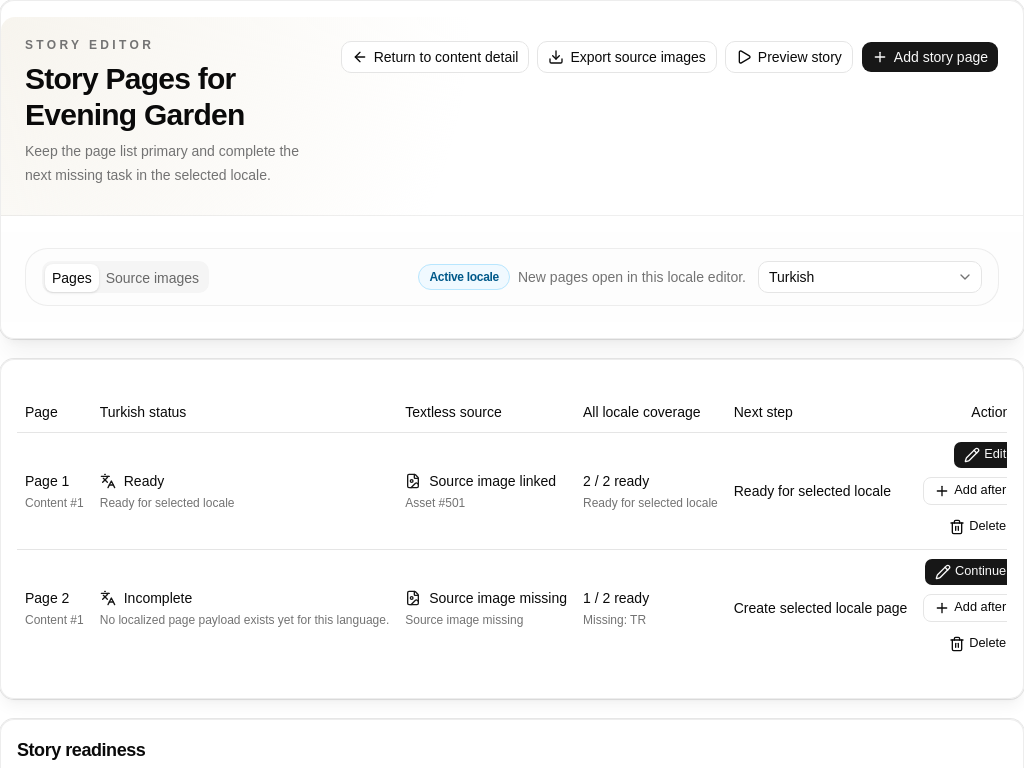
Test: StoryPagesRoute › opens the page editor focused on the locale requested by the content detail route
Click the button with aria-label "edit page 1". click: (985, 454)
box: [953,440,1017,468]
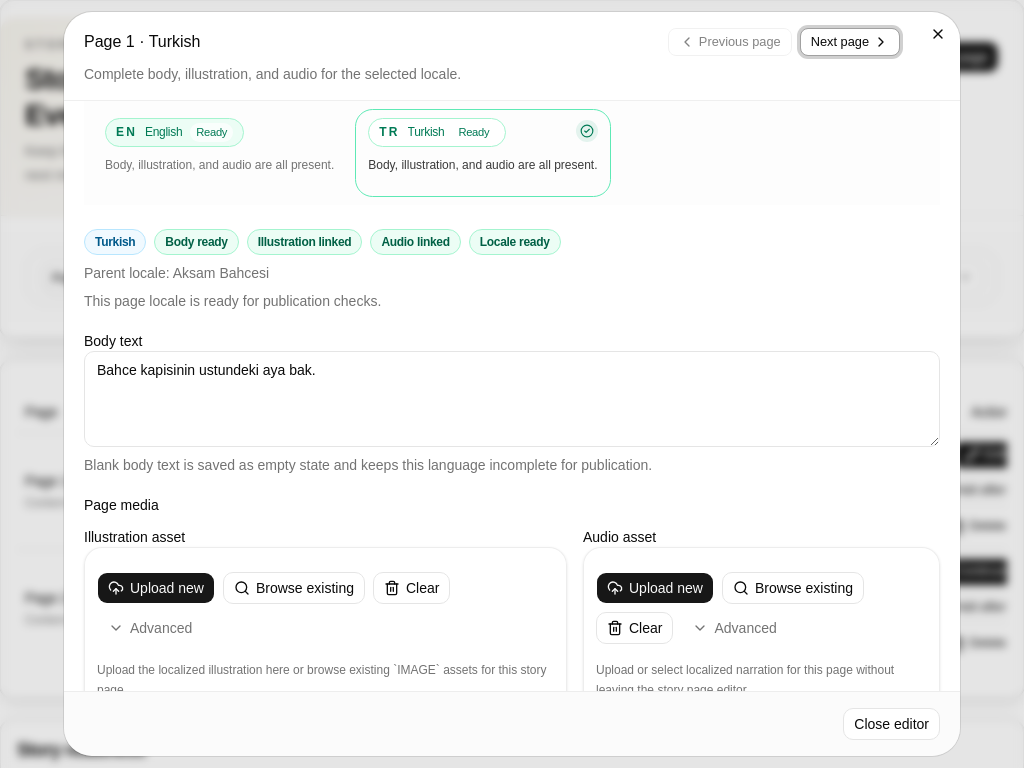
Expected: the text "Parent locale: Aksam Bahcesi" is shown, [84,265,269,281]
